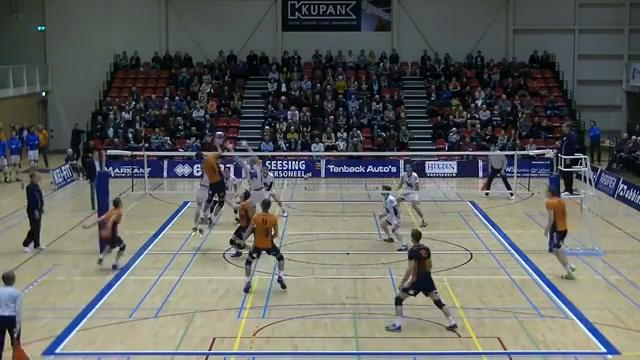Attack: (192, 139, 228, 231)
Block: (229, 138, 269, 212)
Player: (385, 229, 457, 331), (243, 199, 286, 292), (83, 197, 125, 269), (544, 187, 575, 279), (396, 164, 426, 226), (379, 185, 407, 250), (229, 190, 252, 256), (262, 167, 287, 216), (223, 167, 242, 221), (192, 171, 208, 235)
ball: (215, 131, 225, 140)
